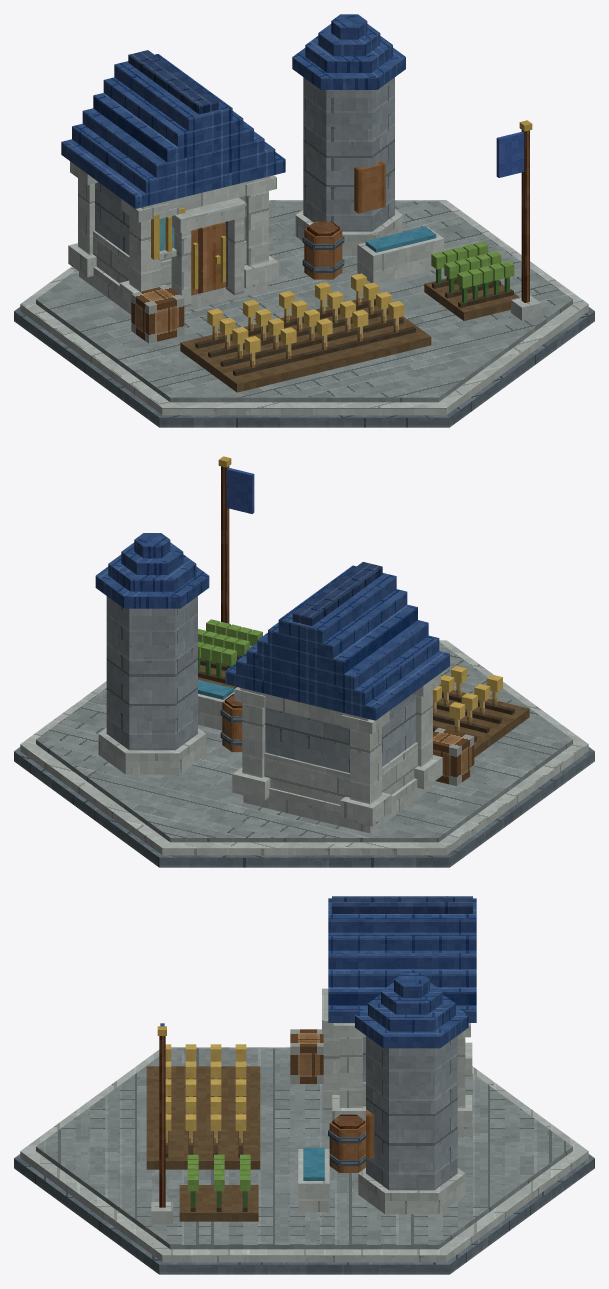
File: farm_hex_v1.glb
The picture shows the model from 3 angles, top to bottom: view 1: azimuth 30°, elevation 25°; view 2: azimuth 150°, elevation 25°; view 3: azimuth 270°, elevation 25°; orthographic projection.
Parts seen in each view (by area): view 1: Human_Farm_Hex_V1_Foundation, Human_Farm_Hex_V1_Roofs, Human_Farm_Hex_V1_Courtyard, Human_Farm_Hex_V1_Hall, Human_Farm_Hex_V1_Details, Human_Farm_Hex_V1_Structure, Human_Farm_Hex_V1_Faction; view 2: Human_Farm_Hex_V1_Foundation, Human_Farm_Hex_V1_Hall, Human_Farm_Hex_V1_Roofs, Human_Farm_Hex_V1_Structure, Human_Farm_Hex_V1_Courtyard, Human_Farm_Hex_V1_Details, Human_Farm_Hex_V1_Faction; view 3: Human_Farm_Hex_V1_Foundation, Human_Farm_Hex_V1_Roofs, Human_Farm_Hex_V1_Courtyard, Human_Farm_Hex_V1_Hall, Human_Farm_Hex_V1_Details, Human_Farm_Hex_V1_Structure.
Part boxes in pixels (x1=…): Human_Farm_Hex_V1_Foundation: x1=14, y1=200, x2=594, y2=427; Human_Farm_Hex_V1_Roofs: x1=61, y1=14, x2=405, y2=208; Human_Farm_Hex_V1_Courtyard: x1=180, y1=227, x2=519, y2=392; Human_Farm_Hex_V1_Hall: x1=79, y1=77, x2=402, y2=314; Human_Farm_Hex_V1_Details: x1=131, y1=120, x2=540, y2=343; Human_Farm_Hex_V1_Structure: x1=68, y1=161, x2=278, y2=309; Human_Farm_Hex_V1_Faction: x1=496, y1=131, x2=524, y2=177; Human_Farm_Hex_V1_Foundation: x1=14, y1=640, x2=594, y2=867; Human_Farm_Hex_V1_Hall: x1=98, y1=596, x2=431, y2=833; Human_Farm_Hex_V1_Roofs: x1=95, y1=533, x2=449, y2=720; Human_Farm_Hex_V1_Structure: x1=232, y1=673, x2=442, y2=826; Human_Farm_Hex_V1_Courtyard: x1=198, y1=619, x2=529, y2=757; Human_Farm_Hex_V1_Details: x1=198, y1=456, x2=474, y2=786; Human_Farm_Hex_V1_Faction: x1=226, y1=468, x2=254, y2=513; Human_Farm_Hex_V1_Foundation: x1=14, y1=1047, x2=594, y2=1274; Human_Farm_Hex_V1_Roofs: x1=328, y1=896, x2=476, y2=1048; Human_Farm_Hex_V1_Courtyard: x1=146, y1=1044, x2=329, y2=1221; Human_Farm_Hex_V1_Hall: x1=358, y1=1036, x2=465, y2=1214; Human_Farm_Hex_V1_Details: x1=151, y1=1026, x2=374, y2=1224; Human_Farm_Hex_V1_Structure: x1=322, y1=988, x2=472, y2=1129.
Bounding box in the file's own units: 1.59 × 0.828 × 1.84.
Materials: 1 (1 with a texture image).
